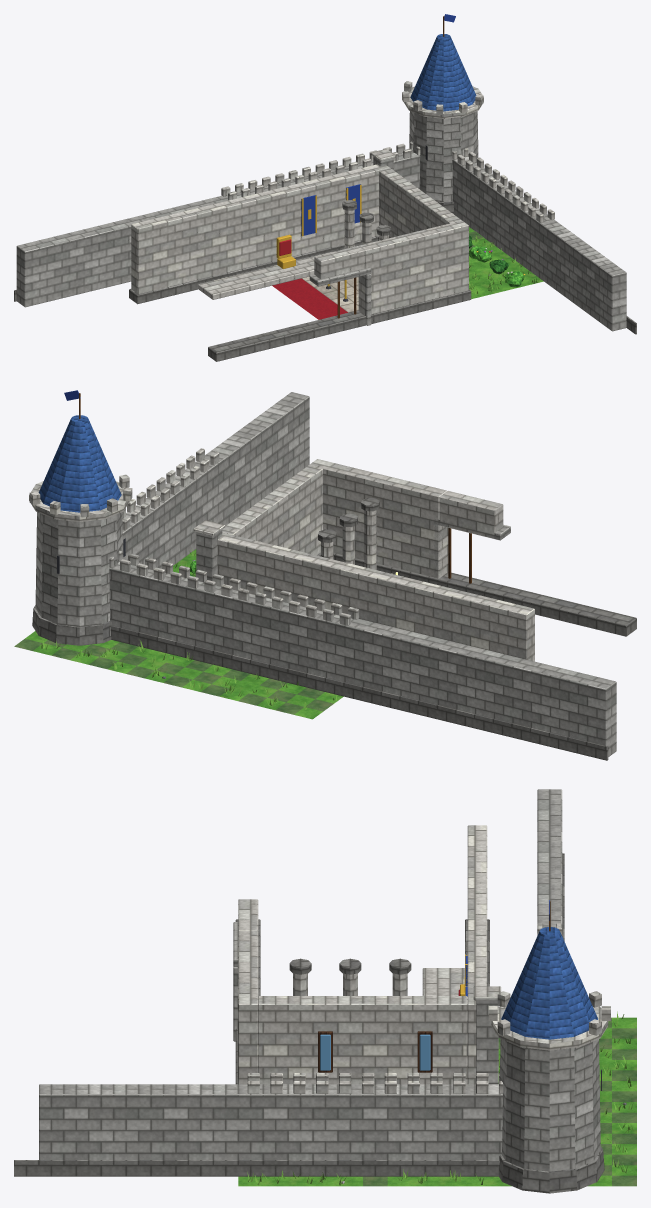
File: chunk_6_3.glb
The picture shows the model from 3 angles, top to bottom: view 1: azimuth 30°, elevation 25°; view 2: azimuth 150°, elevation 25°; view 3: azimuth 270°, elevation 25°; orthographic projection. The views are drawn at different scales.
Visible parts, largest first — view 1: chunk_6_3; view 2: chunk_6_3; view 3: chunk_6_3.
Boxes of the visible parts, bbox=[...] form: chunk_6_3: bbox=[14, 14, 636, 361]; chunk_6_3: bbox=[14, 390, 636, 760]; chunk_6_3: bbox=[14, 789, 636, 1193].
Size of the model in its own units: 30.95 by 12.12 by 25.
28 materials, 14 textured.
